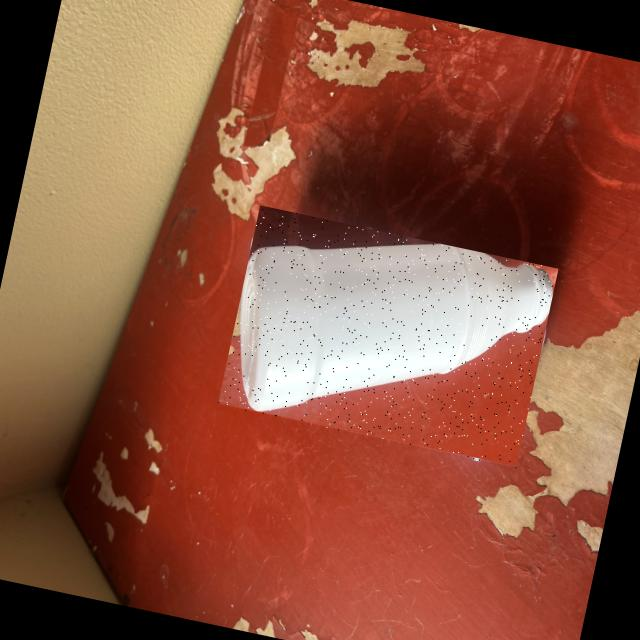HDPE_Bottle: (240, 244, 551, 411)
